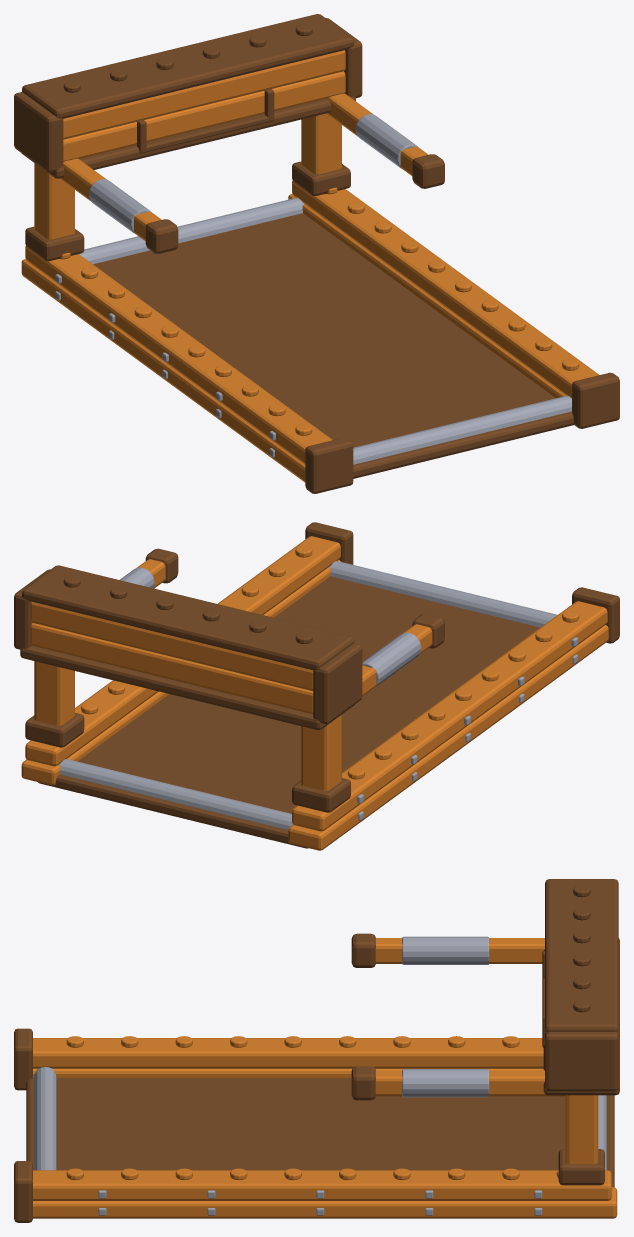
The model's file is Treadmill_Bois.fbx.
3 renders of one model, top to bottom at view 1: azimuth 30°, elevation 25°; view 2: azimuth 150°, elevation 25°; view 3: azimuth 270°, elevation 25°, orthographic.
Parts seen in each view (by area): view 1: Dark, Main, Metal; view 2: Dark, Main, Metal; view 3: Dark, Main, Metal.
Part boxes in pixels (x1=…): Dark: x1=14, y1=14, x2=619, y2=493; Main: x1=21, y1=50, x2=599, y2=482; Metal: x1=55, y1=114, x2=571, y2=464; Dark: x1=14, y1=522, x2=619, y2=848; Main: x1=21, y1=536, x2=608, y2=850; Metal: x1=58, y1=561, x2=578, y2=829; Dark: x1=14, y1=879, x2=619, y2=1222; Main: x1=33, y1=938, x2=617, y2=1218; Metal: x1=34, y1=936, x2=606, y2=1215.
Size of the model in its own units: 13.6 by 8.17 by 22.25.
